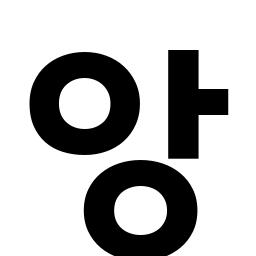Gaji: (157, 78, 216, 127)
